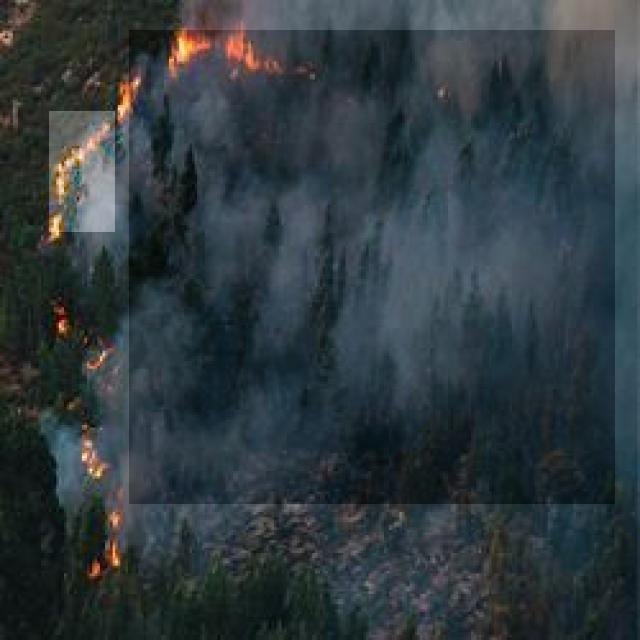Fire: (49, 111, 115, 232)
Smoke: (129, 30, 615, 504)
